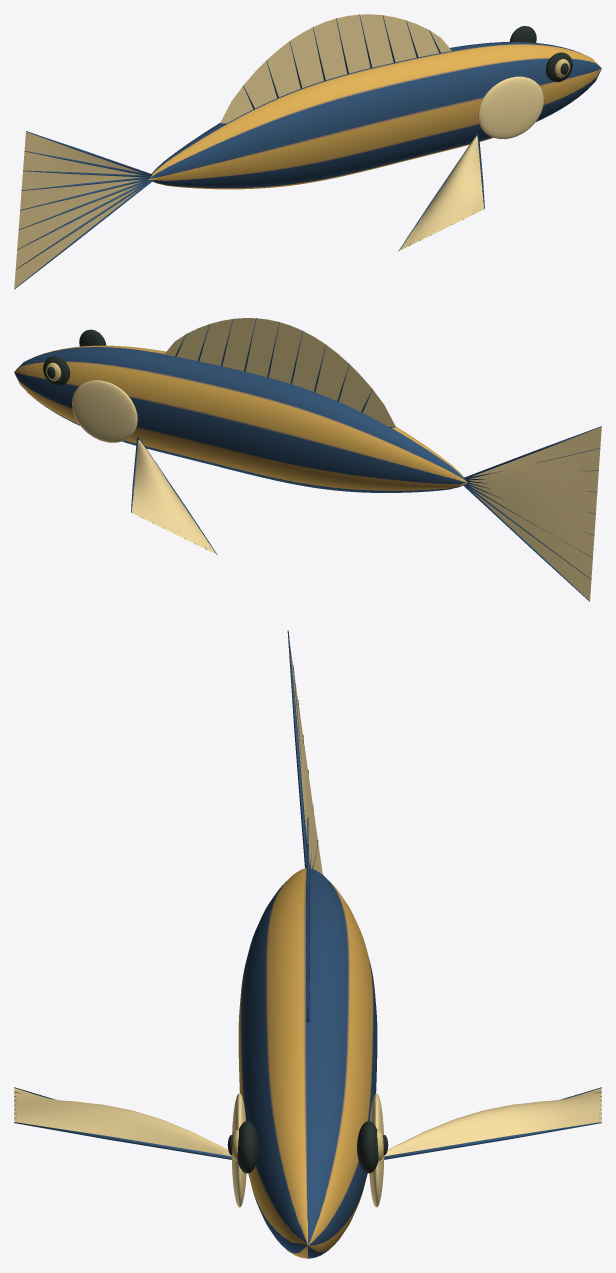
File: fish-zebra.glb
3 views of the same model, one above another, from view 1: azimuth 30°, elevation 25°; view 2: azimuth 150°, elevation 25°; view 3: azimuth 270°, elevation 25° (orthographic). The views are drawn at different scales.
Parts seen in each view (by area): view 1: FishMesh_0.002, FishMesh_1.002, FishMesh_2.002; view 2: FishMesh_0.002, FishMesh_1.002, FishMesh_2.002; view 3: FishMesh_0.002, FishMesh_1.002, FishMesh_2.002.
Part boxes in pixels (x1,y1,x2,y2): FishMesh_0.002: (14, 14, 601, 289); FishMesh_1.002: (14, 14, 543, 288); FishMesh_2.002: (509, 26, 572, 82); FishMesh_0.002: (14, 318, 601, 601); FishMesh_1.002: (72, 318, 601, 600); FishMesh_2.002: (43, 329, 106, 385); FishMesh_0.002: (14, 630, 601, 1258); FishMesh_1.002: (14, 642, 601, 1207); FishMesh_2.002: (227, 1121, 388, 1173).
Size of the model in its own units: 1.15 by 0.3749 by 0.6009.
Materials: 4 (1 with a texture image).
